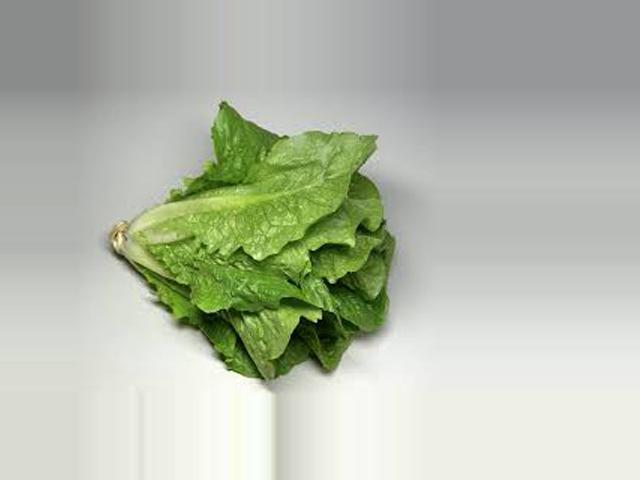lettuce: (84, 108, 406, 396)
